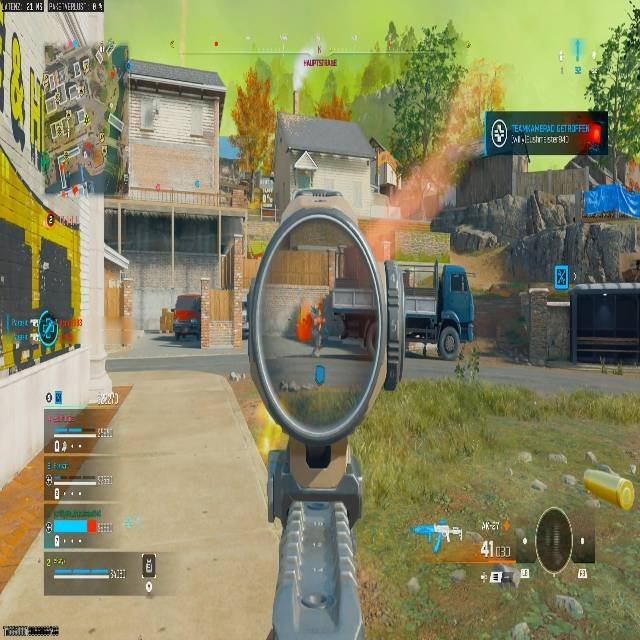head: (310, 303, 318, 314)
player: (306, 303, 325, 358)
